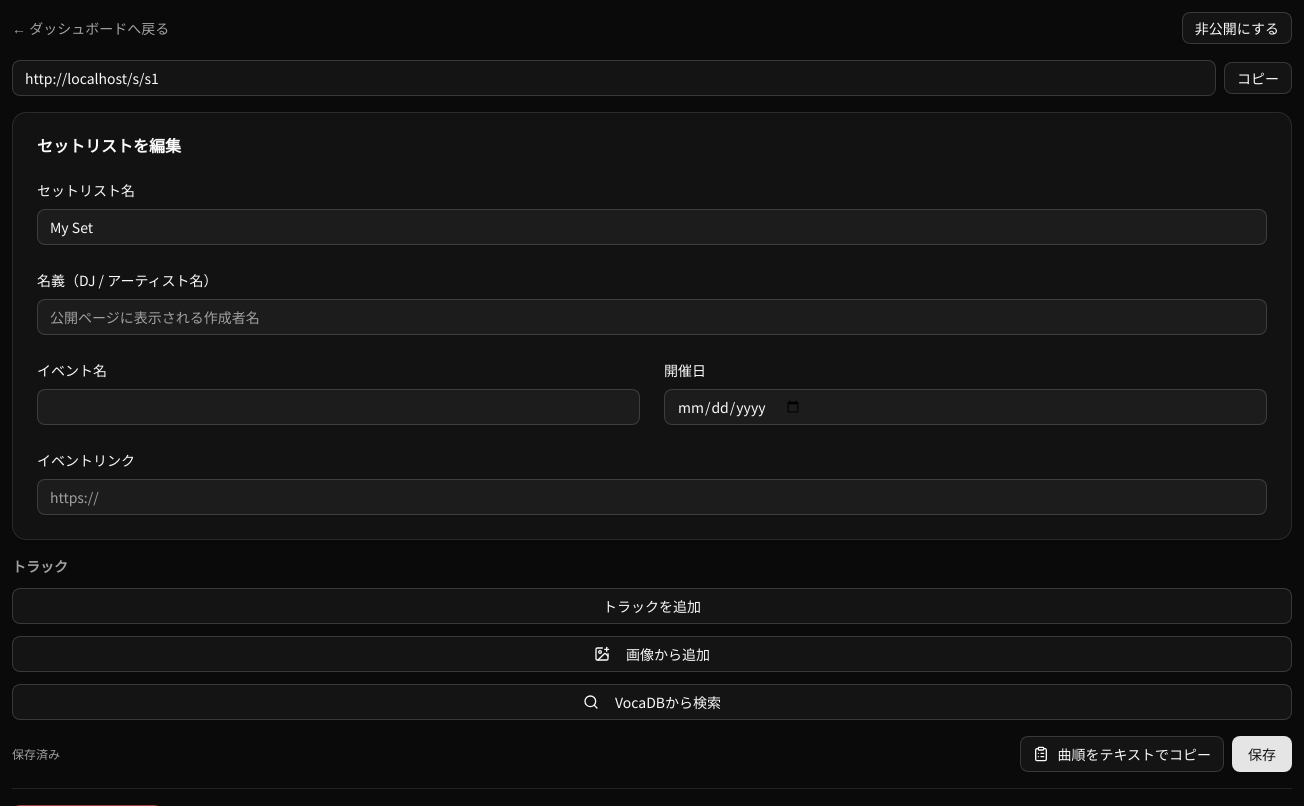
Test case: SetlistEditor › unpublishes and shows a success toast
Expected: the field labelled "セットリスト名" is shown, left=37, top=209, right=1267, bottom=245
Click the button "非公開にする": (1237, 28) left=1182, top=12, right=1292, bottom=44
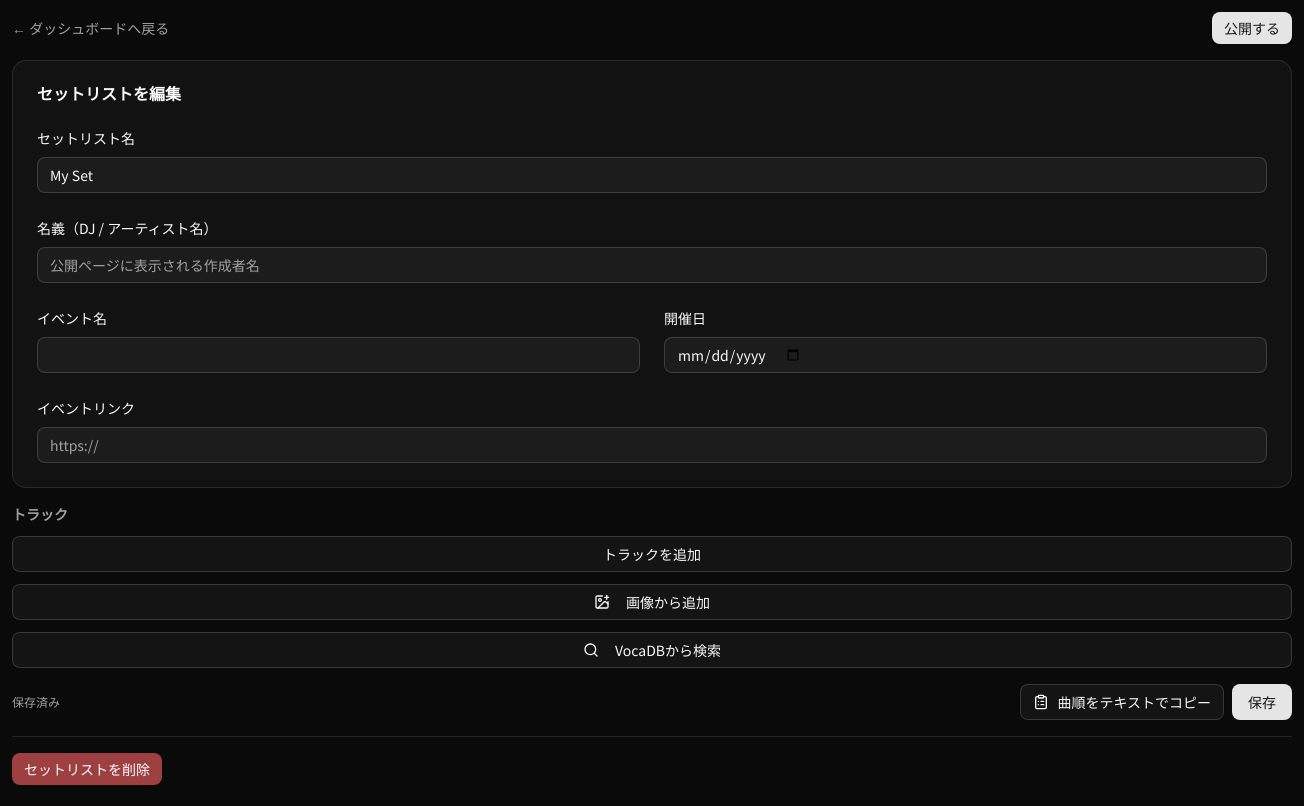
Now the button "公開する" is shown, box left=1212, top=12, right=1292, bottom=44
